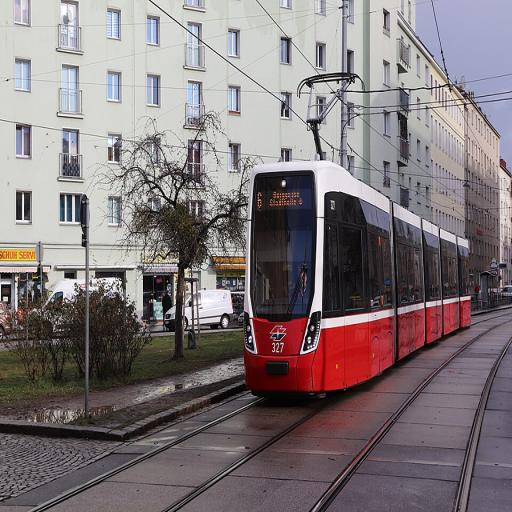Flexity: (242, 158, 473, 400)
